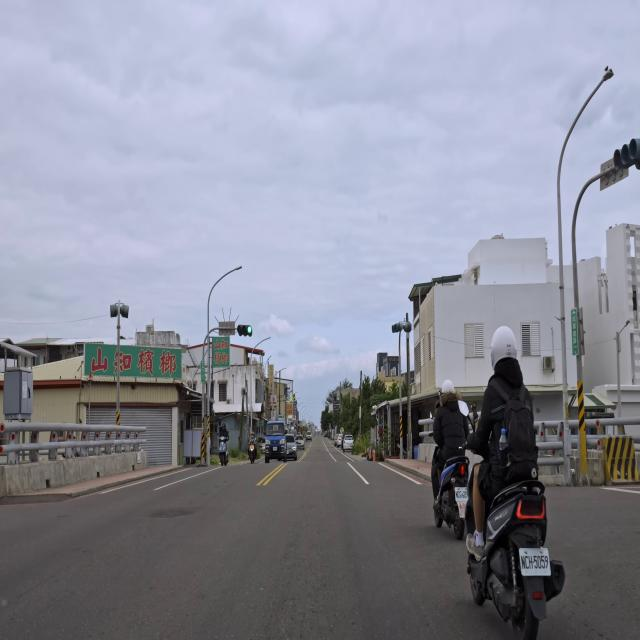green light: (236, 323, 253, 337)
